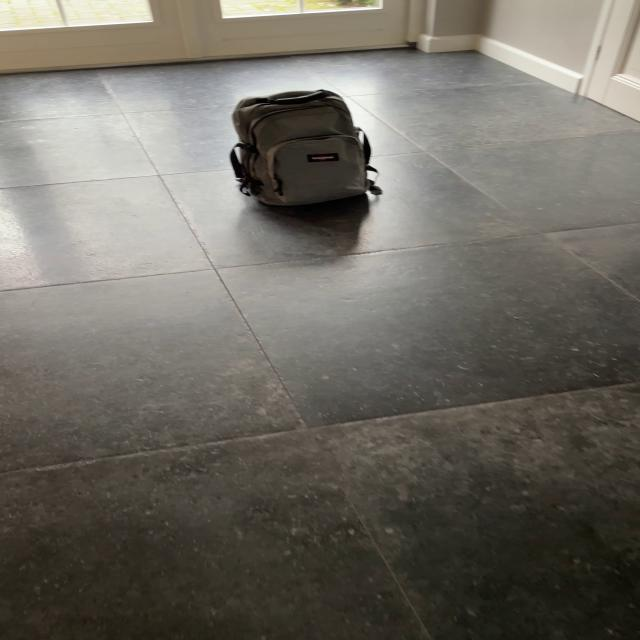backpack: (221, 84, 379, 210)
